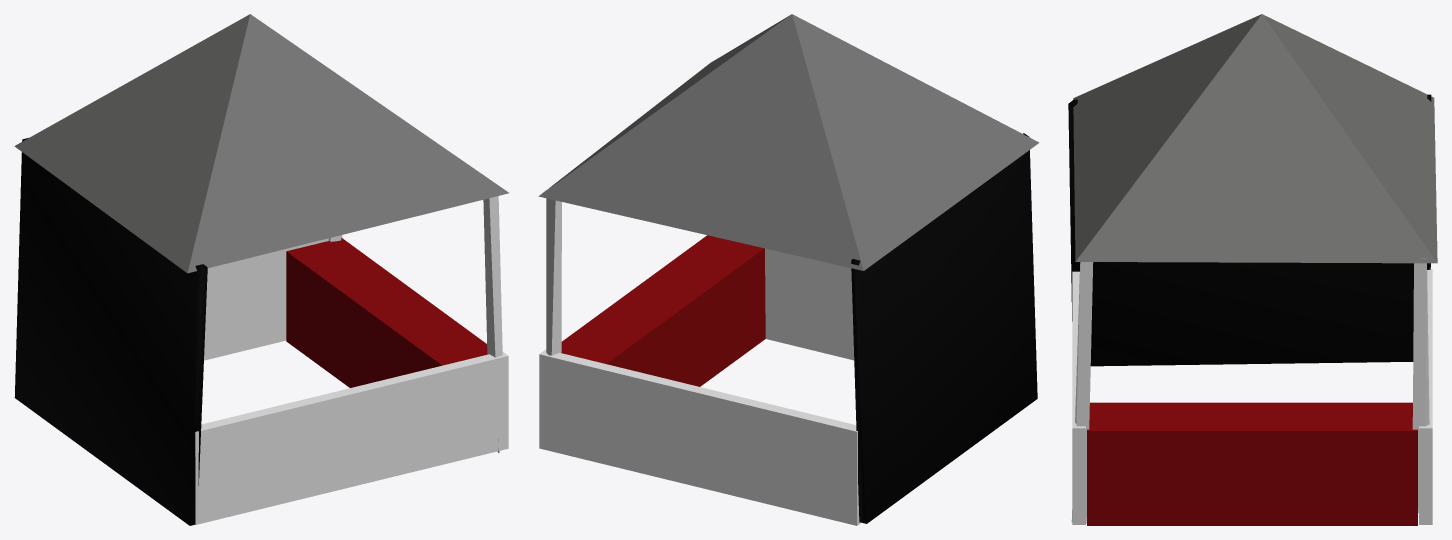
File: partialboothhh.fbx
3 renders of one model, left to right at view 1: azimuth 30°, elevation 25°; view 2: azimuth 150°, elevation 25°; view 3: azimuth 270°, elevation 25°, orthographic. The views are drawn at different scales.
Visible parts, largest first — view 1: Cone, Cube, Cube.001, Cube.003, Cube.005, Cube.002; view 2: Cone, Cube, Cube.005, Cube.003, Cube.001, Cube.007; view 3: Cone, Cube.003, Cube, Cube.007, Cube.002, Cube.001, Cube.005.
Boxes of the visible parts, x1,y1,x2,y2 form: Cone: (14, 14, 509, 273); Cube: (14, 138, 207, 525); Cube.001: (195, 352, 508, 524); Cube.003: (286, 238, 487, 387); Cube.005: (204, 235, 342, 360); Cube.002: (483, 196, 502, 453); Cone: (538, 14, 1039, 270); Cube: (851, 133, 1037, 523); Cube.005: (539, 349, 860, 525); Cube.003: (561, 235, 765, 386); Cube.001: (765, 248, 854, 360); Cube.007: (546, 188, 561, 355); Cone: (1073, 14, 1437, 263); Cube.003: (1086, 402, 1417, 525); Cube: (1068, 94, 1431, 366); Cube.007: (1412, 258, 1429, 513); Cube.002: (1071, 262, 1093, 521); Cube.001: (1072, 271, 1085, 524); Cube.005: (1419, 269, 1432, 524).
Bounding box in the file's own units: 658 × 797 × 622.
